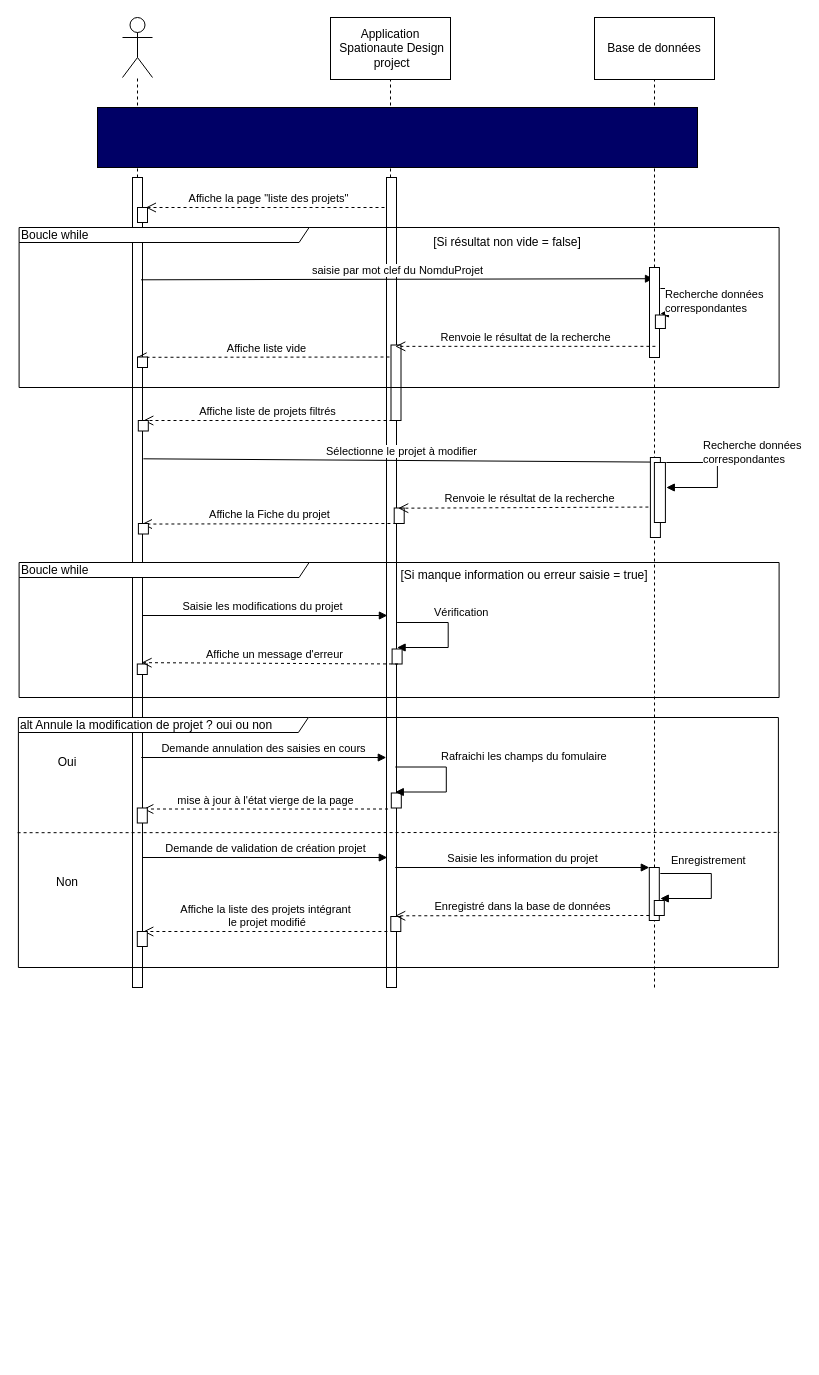
This 819x1375 diagram has some shape labels left out. Here are the shapes that lost their labels. From the top down, the centre of each, then its label:
At (x=137, y=47): "Utilisateur".
At (x=397, y=137): "Authentification() Page gestion d'un projet".
